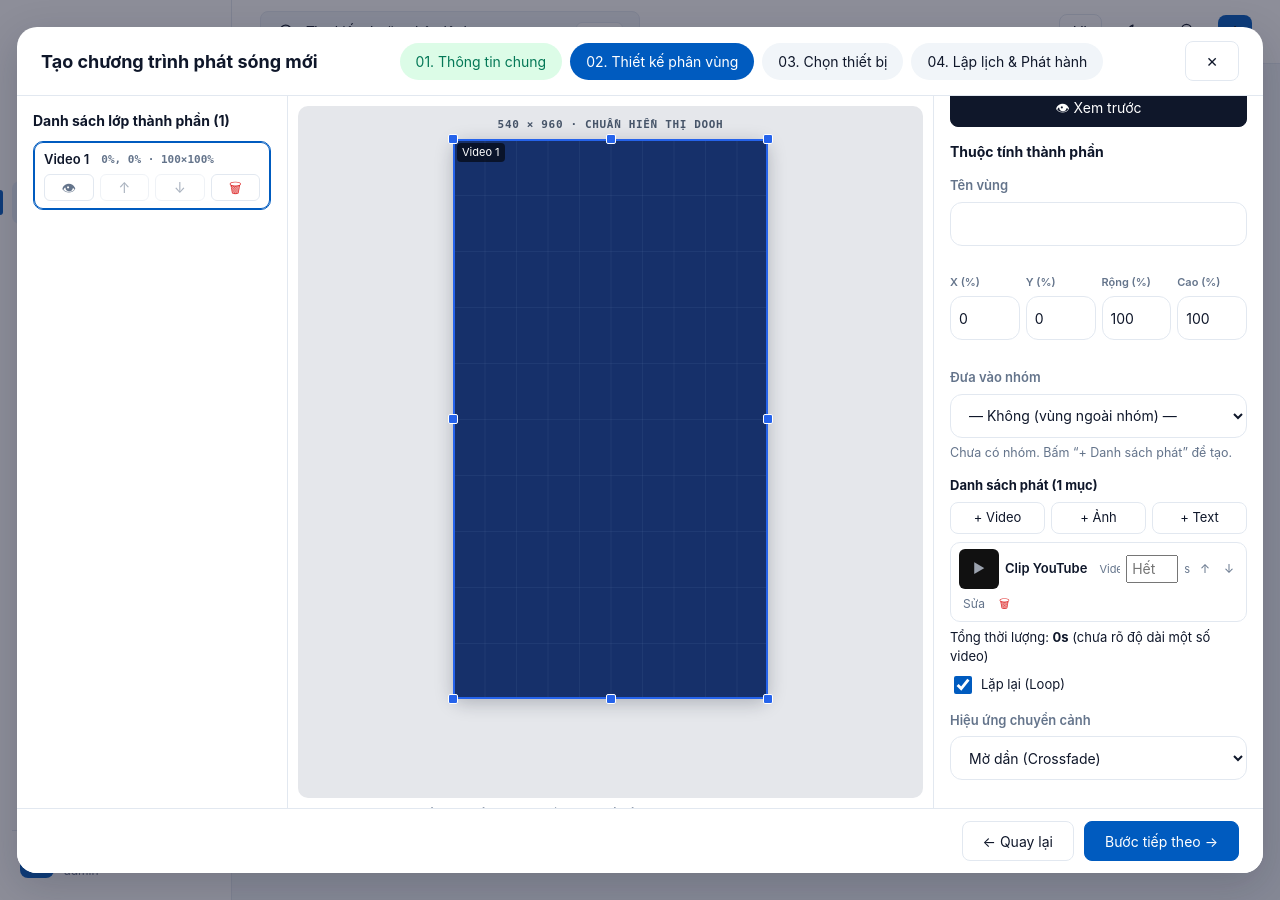
Scenario: Bước 2: danh sách phát › Sửa mục: đổi tệp (có nhãn [Link]), sửa nội dung/màu của Text bằng trình soạn rich text sẵn có
Earlier steps of the test are not shown.
Later steps or results of the test are not shown.
(page scrolled)
Click the button "+ Text" at (1200, 518), box x1=1152 y1=502 x2=1247 y2=534
(page scrolled)
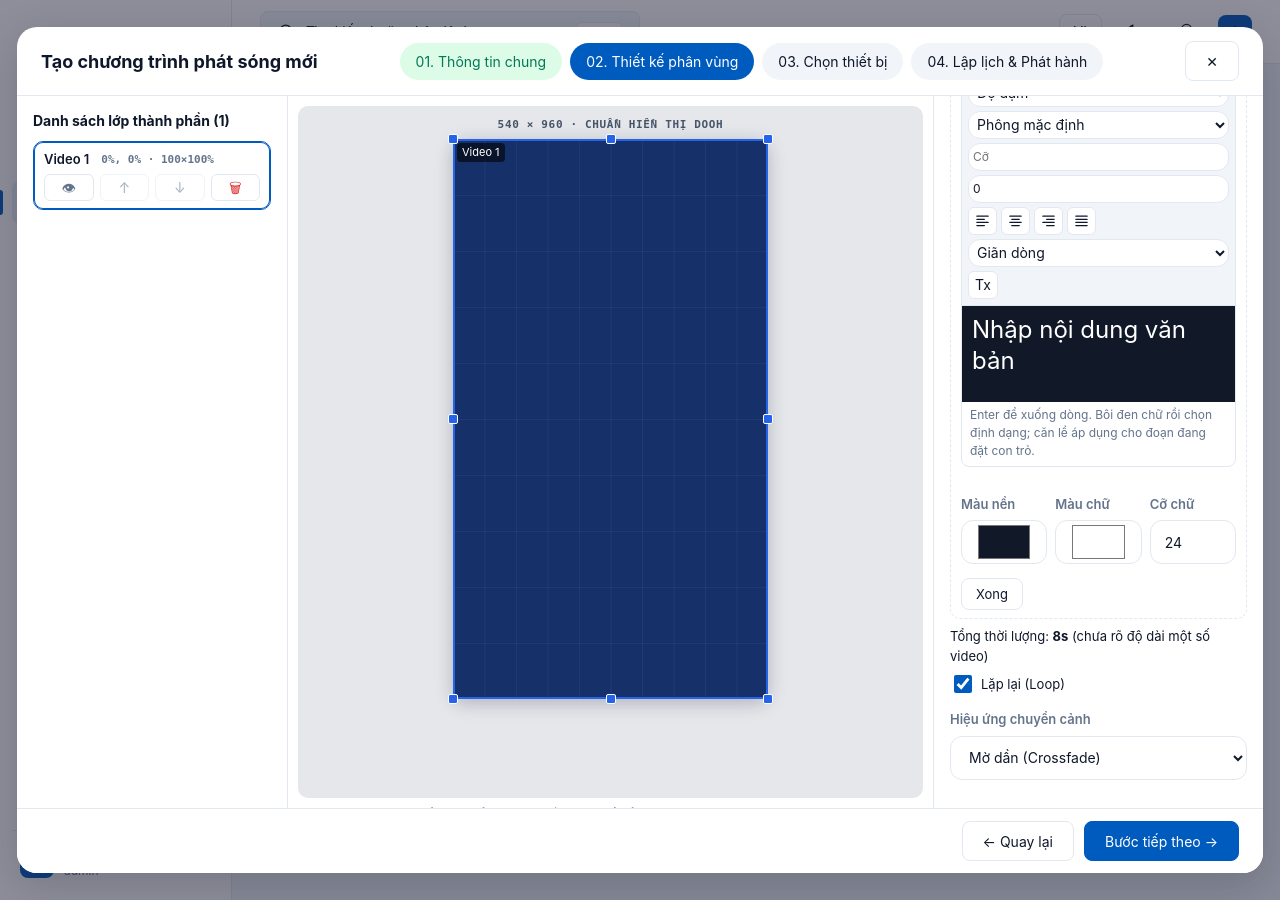
Click the button "Xong" at (992, 594), box x1=961 y1=578 x2=1023 y2=610
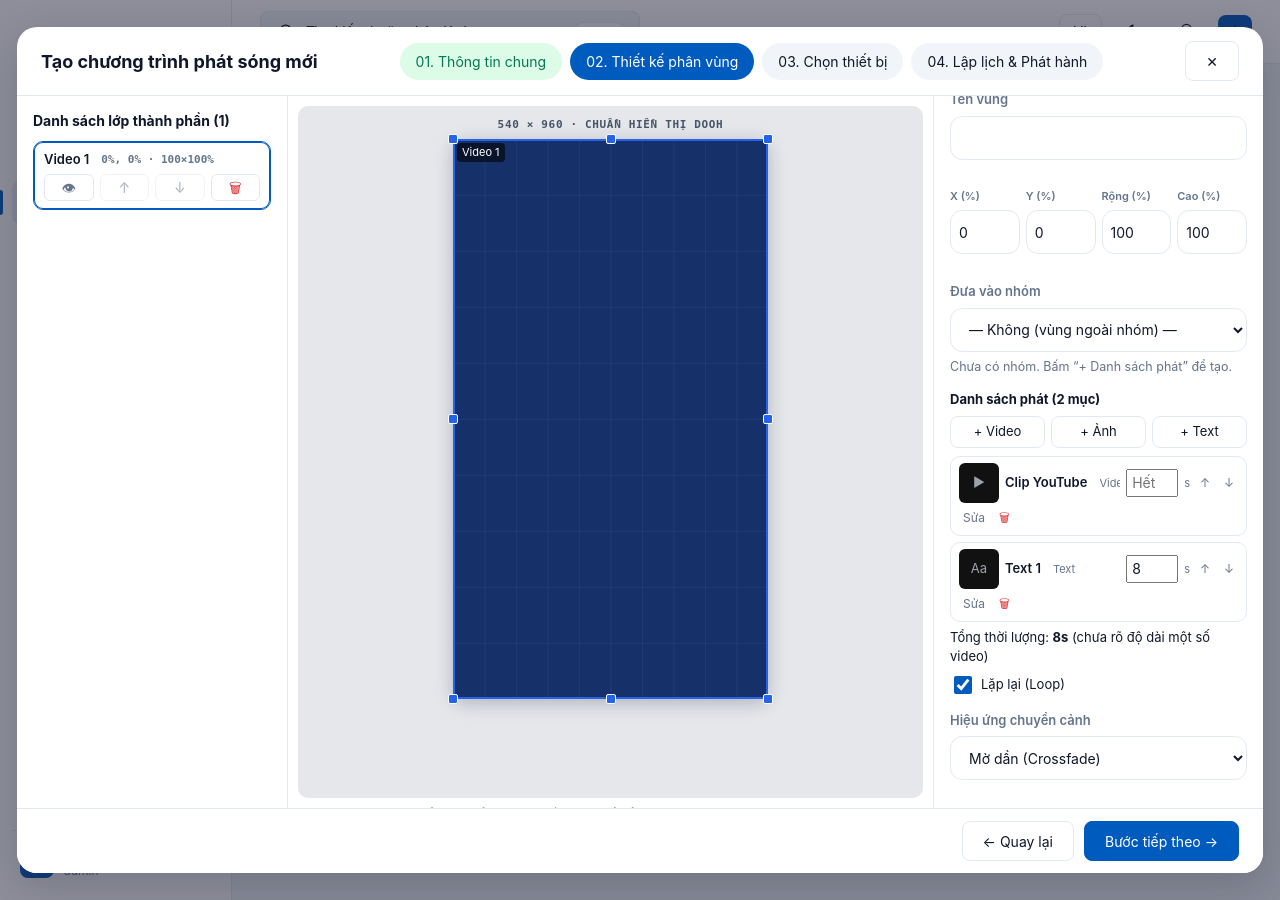
Click the button with aria-label "Sửa Text 1" at (974, 604), box x1=959 y1=593 x2=989 y2=615
(page scrolled)
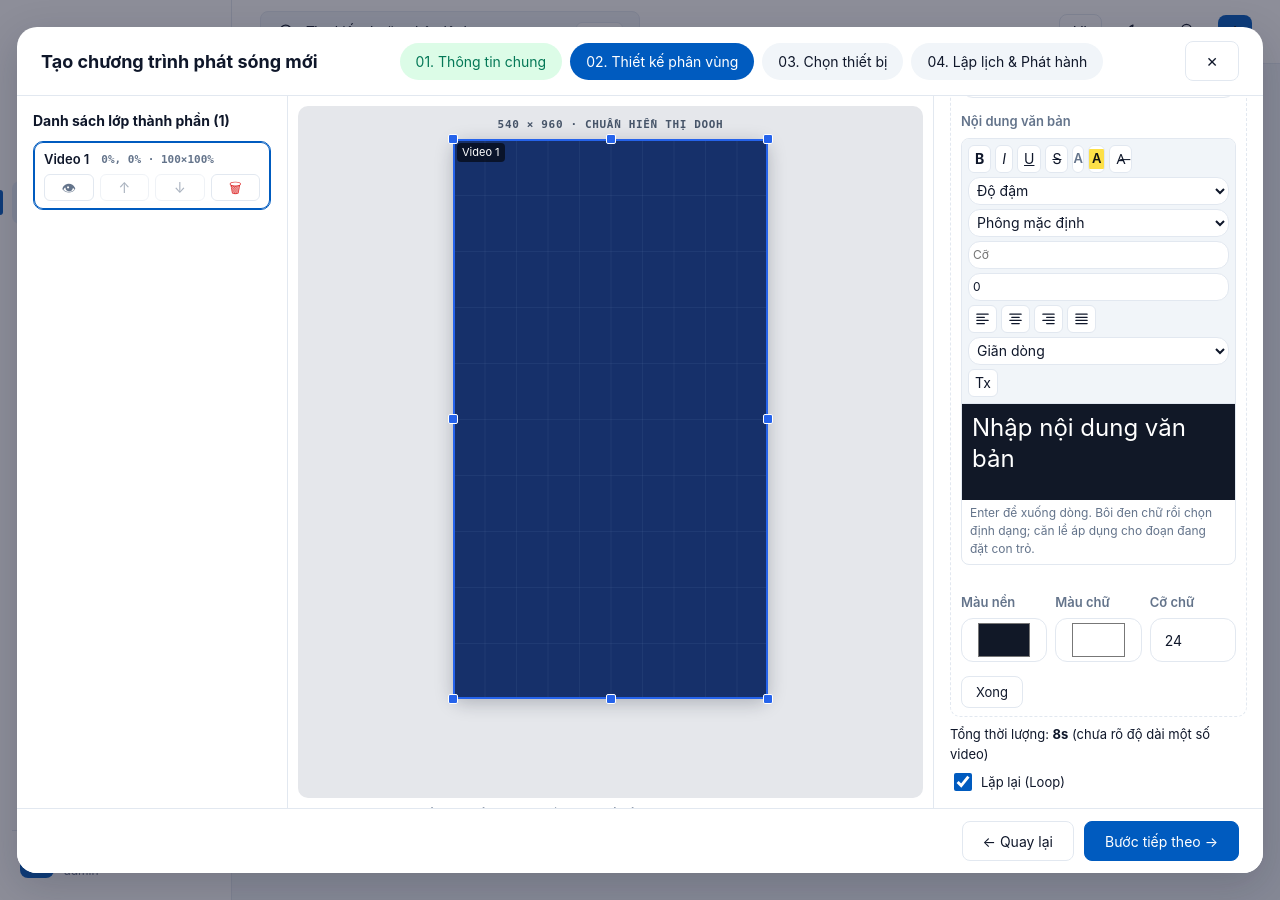
Expected: the field labelled "nội dung văn bản" is shown, x1=962 y1=404 x2=1235 y2=500
